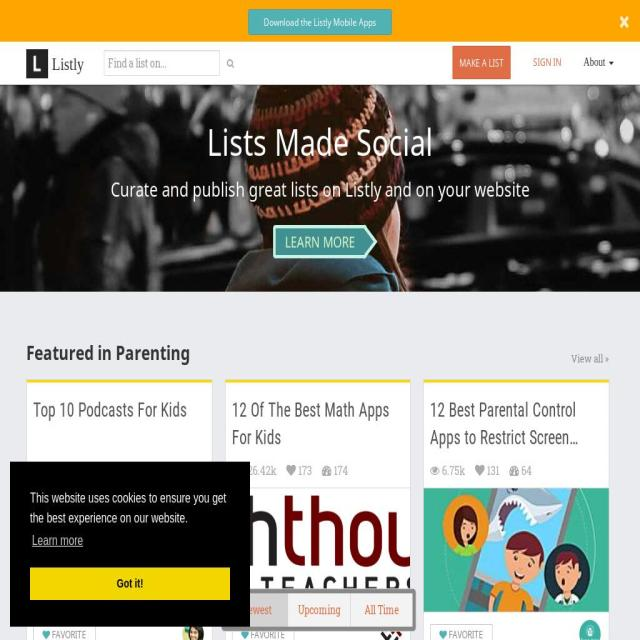button: (30, 567, 230, 600), (248, 8, 392, 35), (273, 225, 367, 258), (20, 42, 91, 83), (225, 593, 287, 627), (288, 593, 350, 627), (350, 593, 412, 627), (574, 42, 623, 83), (452, 46, 511, 79), (30, 528, 86, 554), (609, 0, 640, 42), (566, 350, 614, 367), (529, 53, 565, 71), (178, 619, 206, 640), (575, 619, 603, 640), (377, 619, 404, 640)
field: (104, 50, 220, 76)
heading: (26, 120, 614, 162), (26, 178, 614, 200), (26, 342, 190, 363), (280, 234, 360, 250)
image: (225, 488, 411, 614), (27, 488, 212, 614), (424, 488, 608, 614), (26, 50, 48, 78), (181, 619, 203, 640), (380, 619, 402, 640), (578, 619, 600, 640), (225, 380, 411, 382), (27, 380, 212, 382), (424, 380, 608, 382)
link: (33, 397, 206, 453), (232, 397, 404, 453), (430, 397, 602, 453), (52, 50, 84, 78)
text: (30, 491, 226, 526), (240, 462, 284, 479), (42, 462, 76, 479), (439, 462, 473, 479), (330, 462, 356, 479), (88, 462, 112, 479), (295, 462, 319, 479), (484, 462, 508, 479), (519, 462, 540, 479), (124, 462, 144, 479), (583, 56, 608, 68)
